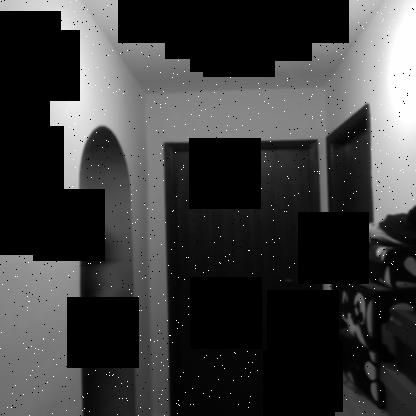Porte: (161, 136, 329, 415)
